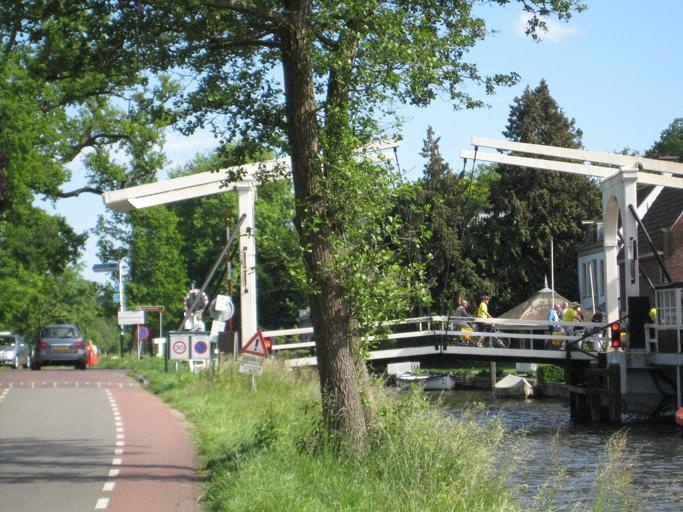non-vehicle: (546, 322, 600, 352), (451, 323, 510, 350)
